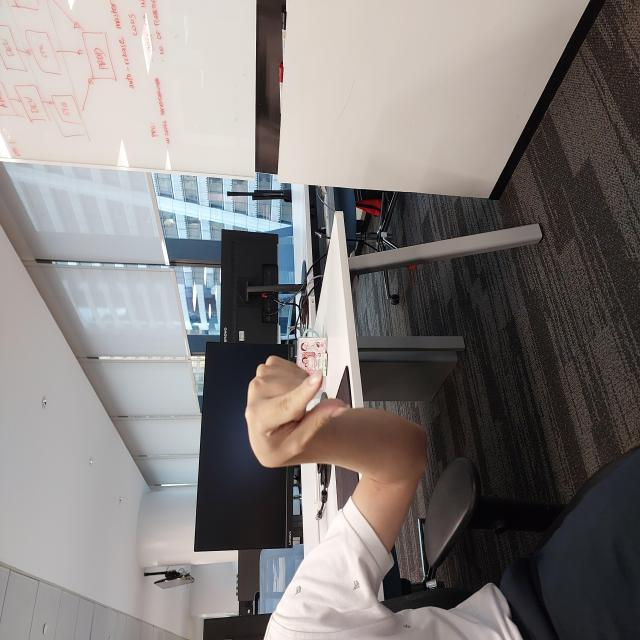Z: (168, 242, 286, 347)
